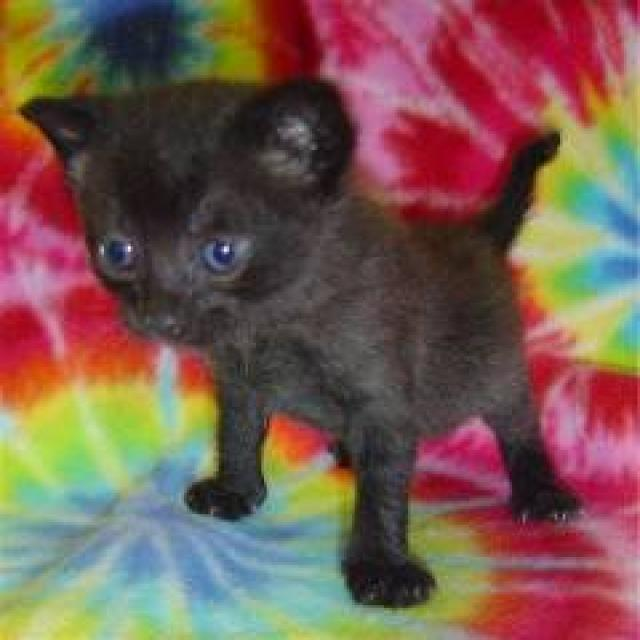cat: (16, 72, 584, 608)
